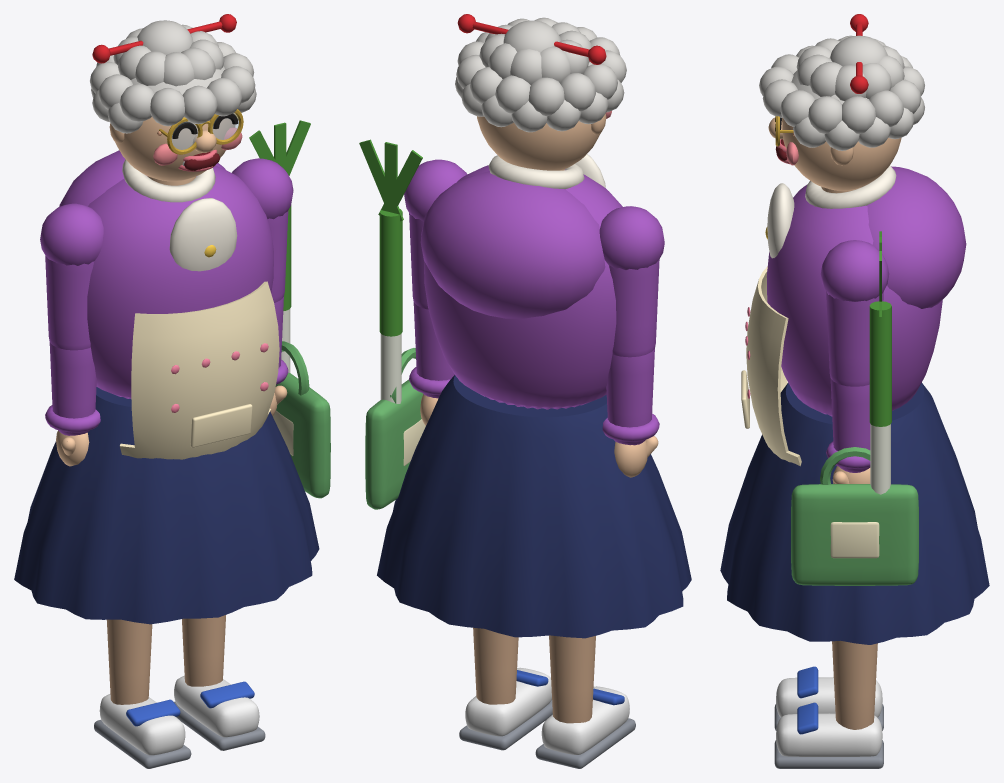
File: granny.glb
3 renders of one model, left to right at view 1: azimuth 30°, elevation 25°; view 2: azimuth 150°, elevation 25°; view 3: azimuth 270°, elevation 25°, orthographic. The views are drawn at different scales.
Visible parts, largest first — view 1: granny_body, granny_skirt, granny_face, granny_shin_r, granny_bag_mesh, granny_shin_l, granny_upper_r, granny_fore_r, granny_upper_l, granny_bun_mesh, granny_glasses_mesh, granny_fore_l; view 2: granny_skirt, granny_body, granny_face, granny_bag_mesh, granny_shin_r, granny_shin_l, granny_upper_r, granny_fore_r, granny_upper_l, granny_fore_l, granny_bun_mesh; view 3: granny_skirt, granny_body, granny_bag_mesh, granny_face, granny_shin_l, granny_upper_l, granny_fore_l, granny_shin_r, granny_bun_mesh.
Boxes of the visible parts, <box> form: granny_body: <box>59,150,279,459</box>; granny_skirt: <box>14,387,319,624</box>; granny_face: <box>90,24,256,185</box>; granny_shin_r: <box>94,619,191,768</box>; granny_bag_mesh: <box>249,120,330,498</box>; granny_shin_l: <box>174,615,265,750</box>; granny_upper_r: <box>40,203,103,350</box>; granny_fore_r: <box>45,342,100,466</box>; granny_upper_l: <box>232,158,293,302</box>; granny_bun_mesh: <box>92,14,236,63</box>; granny_glasses_mesh: <box>159,109,243,154</box>; granny_fore_l: <box>270,297,288,415</box>; granny_skirt: <box>377,375,691,638</box>; granny_body: <box>420,154,622,409</box>; granny_face: <box>455,17,626,170</box>; granny_bag_mesh: <box>359,139,425,509</box>; granny_shin_r: <box>535,635,635,768</box>; granny_shin_l: <box>459,627,552,750</box>; granny_upper_r: <box>599,206,664,357</box>; granny_fore_r: <box>602,349,659,477</box>; granny_upper_l: <box>404,159,467,309</box>; granny_fore_l: <box>409,302,454,425</box>; granny_bun_mesh: <box>457,14,606,64</box>; granny_skirt: <box>720,382,989,644</box>; granny_body: <box>741,165,966,466</box>; granny_bag_mesh: <box>791,231,918,585</box>; granny_face: <box>759,35,924,193</box>; granny_shin_l: <box>774,640,883,768</box>; granny_upper_l: <box>820,240,889,386</box>; granny_fore_l: <box>826,378,870,483</box>; granny_shin_r: <box>774,666,883,730</box>; granny_bun_mesh: <box>830,14,887,93</box>.
Bounding box in the file's own units: 0.7918 × 1.81 × 0.6286.
